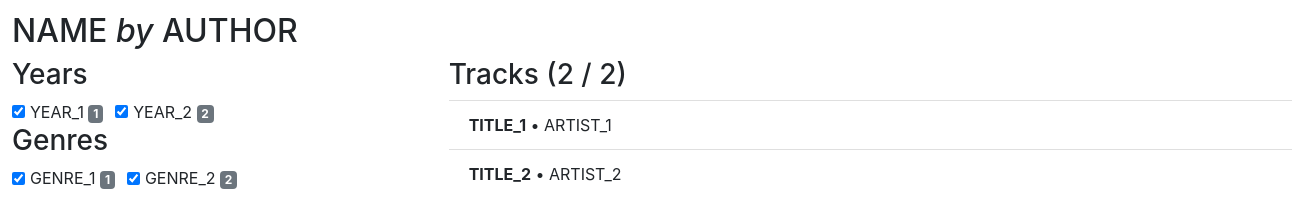
Test case: filters tracks with a specified year
The width and height of the screenshot is (1292, 206).
Click the checkbox with test id "year-toggle-YEAR_2". click: click(122, 112)
box: [115, 106, 128, 118]
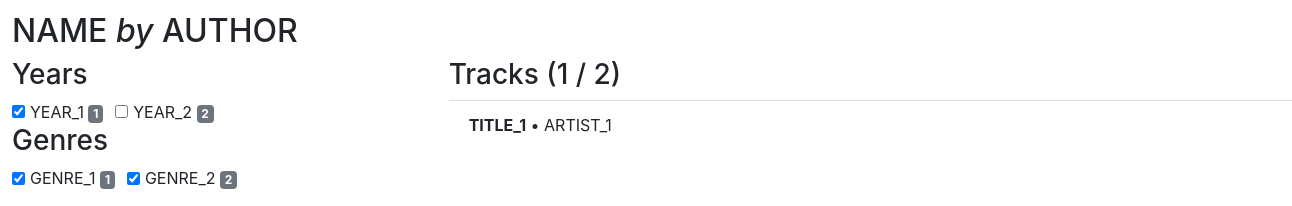
Result: the list items read "TITLE_1 • ARTIST_1", in this order at [449, 100, 1291, 149]
